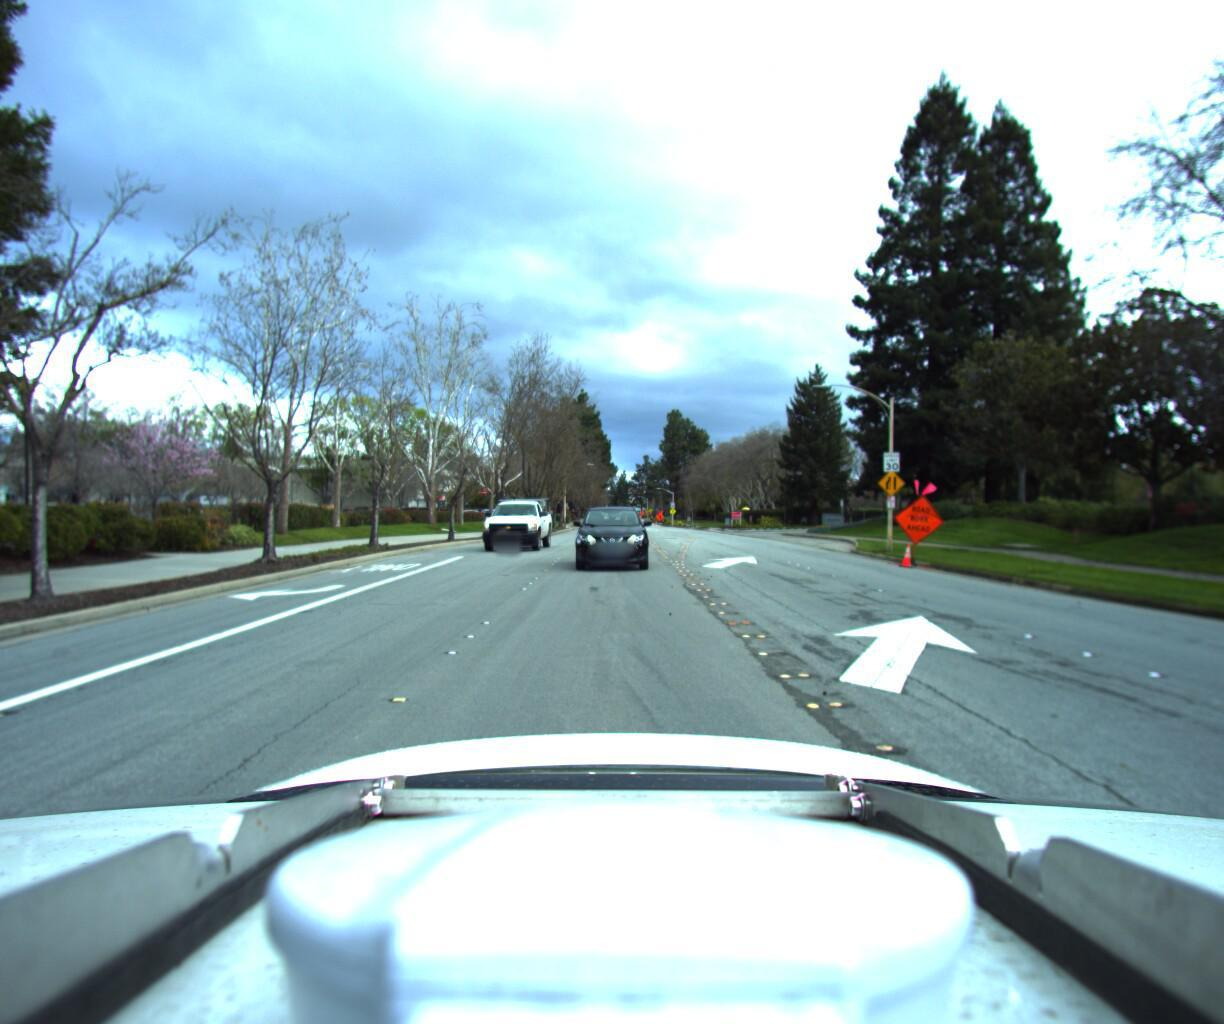car: (570, 496, 645, 565), (476, 490, 557, 548)
